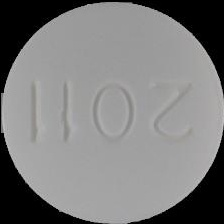52959-527: (0, 0, 224, 224)
